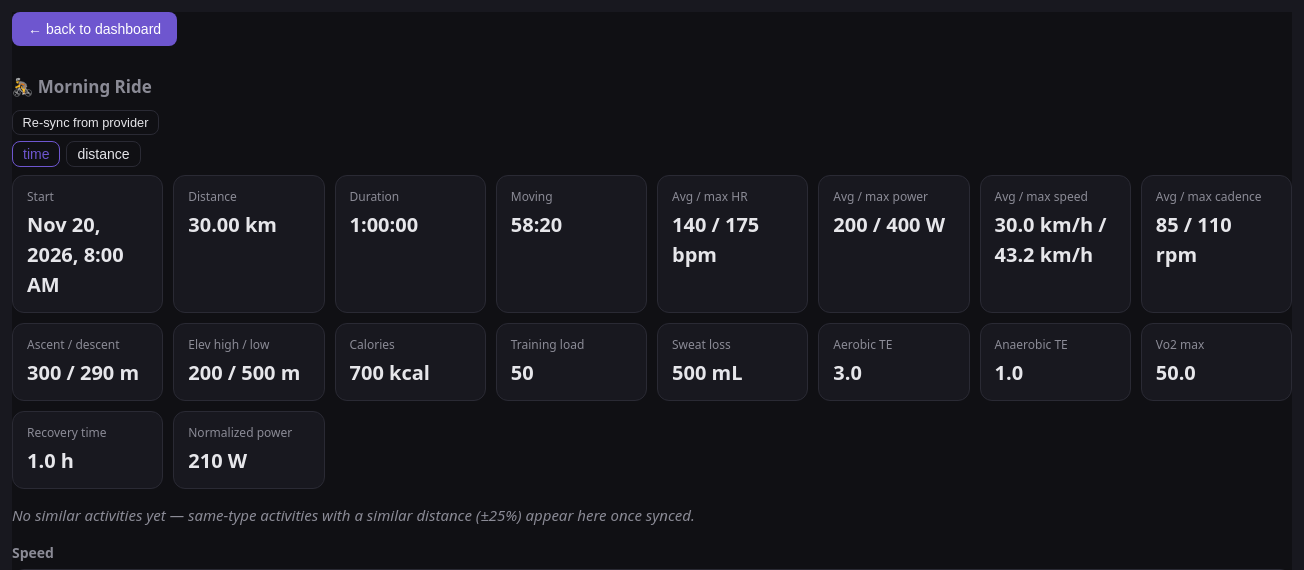
Test: ActivityDetail › surfaces a failed resync result
Expected: the heading "🚴 Morning Ride" is shown, [12,75,152,98]
Click the button "Re-sync from provider": (86, 122) [12,110,159,134]
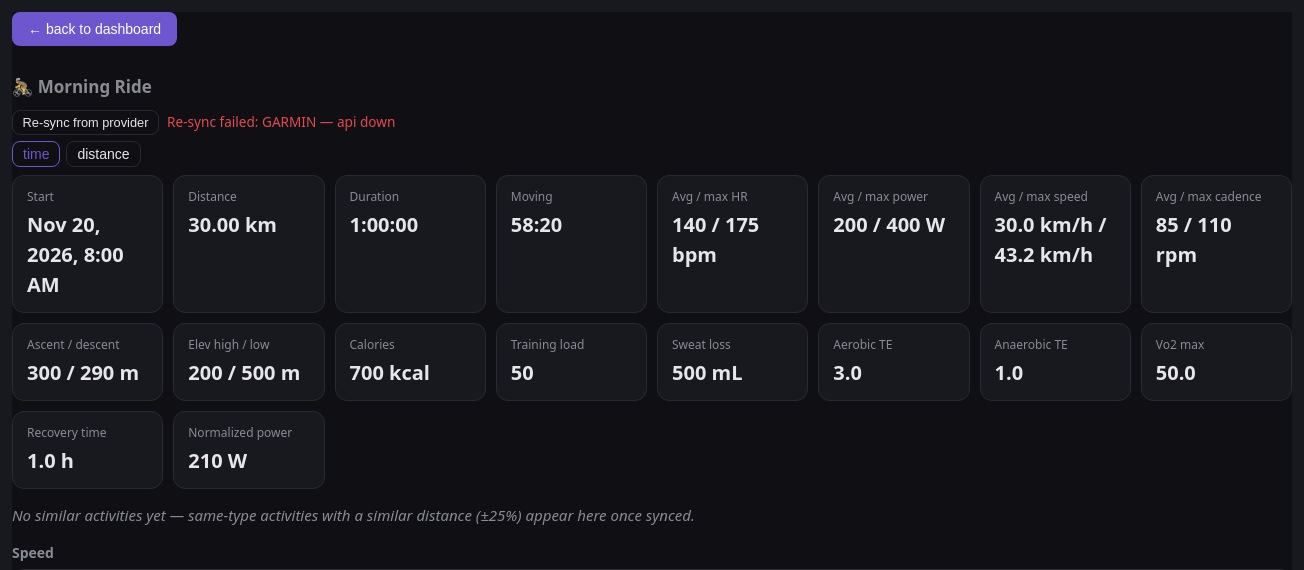
Expected: the text "Re-sync failed: GARMIN — api down" is shown, [167,112,395,132]
